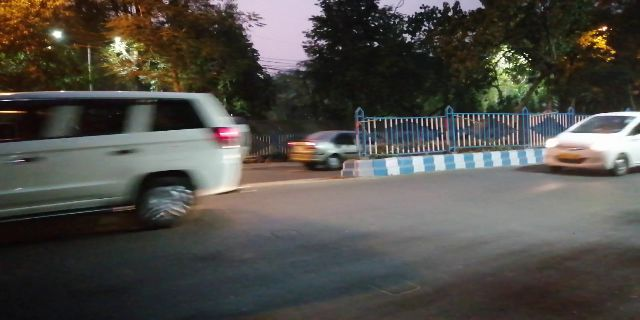Car: (545, 110, 636, 176), (291, 128, 351, 168)
Van: (7, 87, 247, 215)
